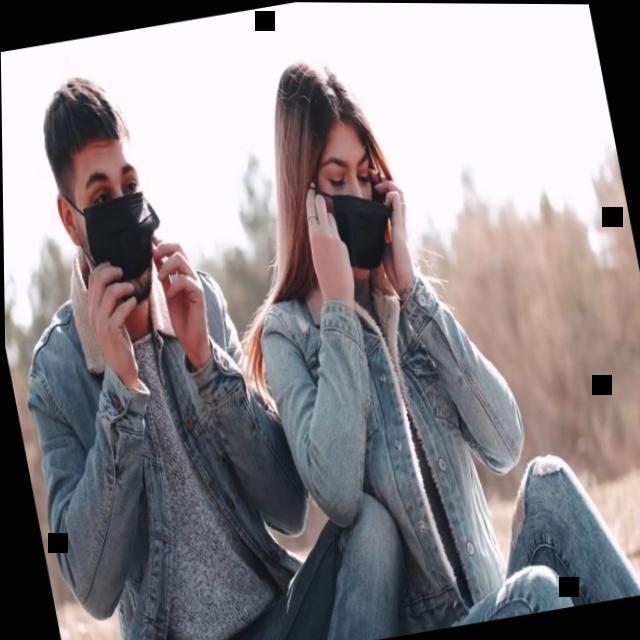NO-Mask: (59, 122, 172, 316), (308, 135, 406, 275)
